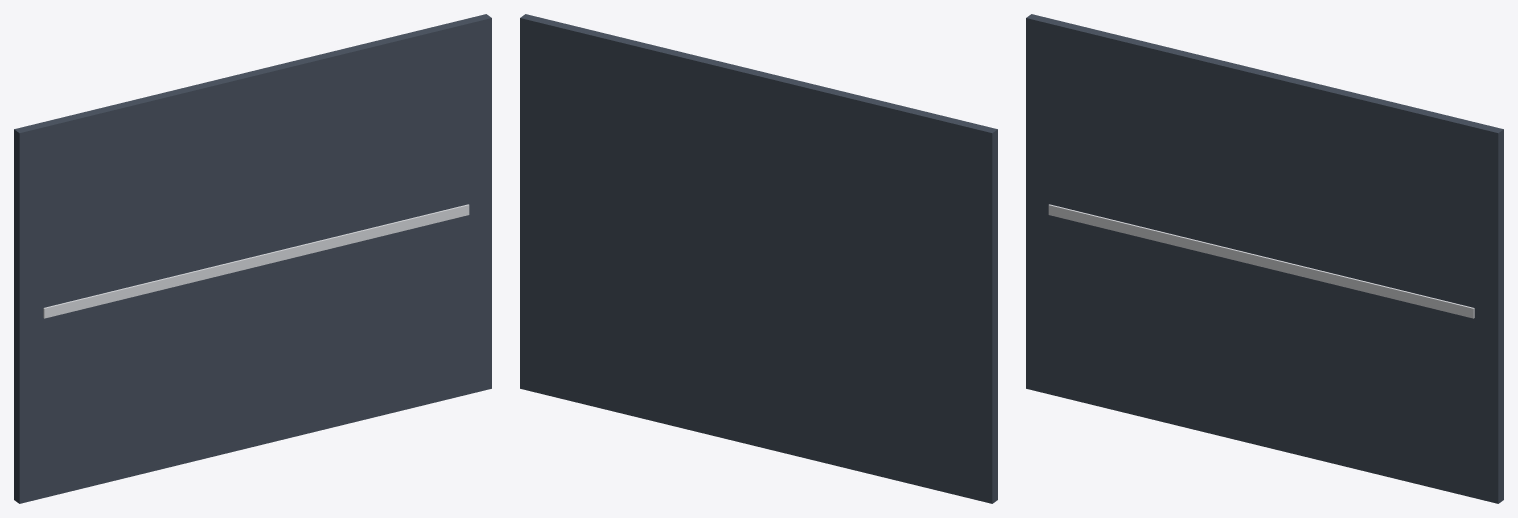
The model's file is road.straight.glb.
3 views of the same model, side by side, from view 1: azimuth 30°, elevation 25°; view 2: azimuth 150°, elevation 25°; view 3: azimuth 330°, elevation 25° (orthographic).
Parts seen in each view (by area): view 1: road.straight; view 2: road.straight; view 3: road.straight.
Part boxes in pixels (left/top/right/bottom): road.straight: left=14, top=14, right=491, bottom=503; road.straight: left=520, top=14, right=997, bottom=503; road.straight: left=1026, top=14, right=1503, bottom=503.
Size of the model in its own units: 4 by 3 by 0.0975.
